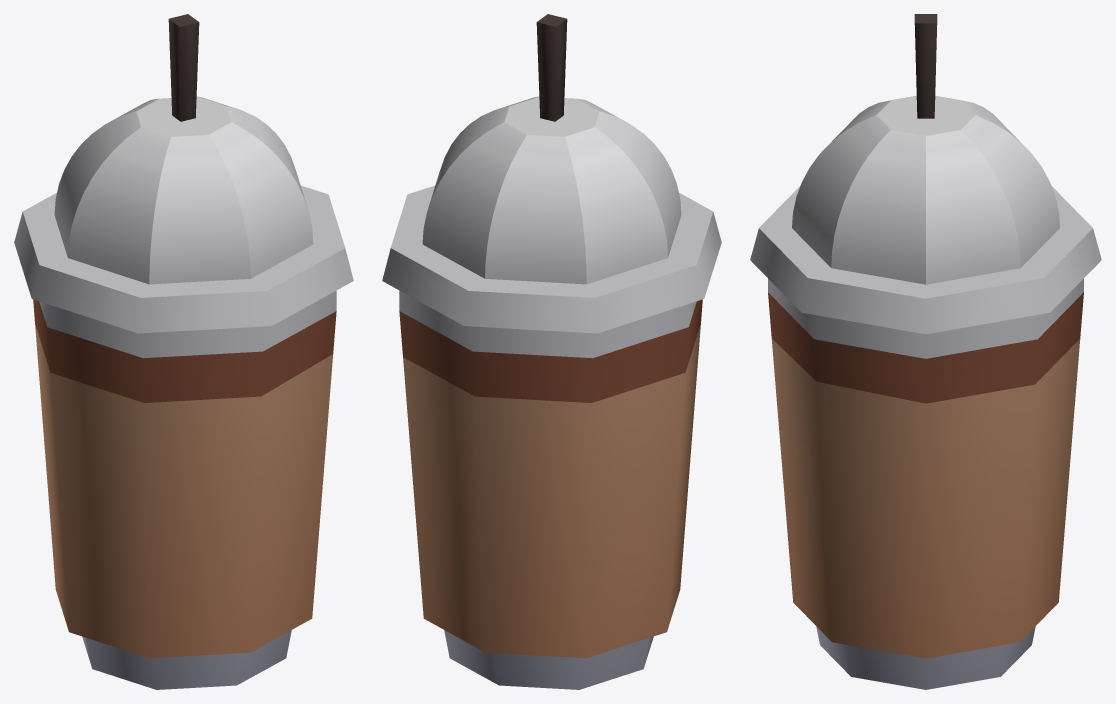
The model's file is frappe.glb.
3 renders of one model, left to right at view 1: azimuth 30°, elevation 25°; view 2: azimuth 150°, elevation 25°; view 3: azimuth 270°, elevation 25°, orthographic.
Parts seen in each view (by area): view 1: frappe; view 2: frappe; view 3: frappe.
Boxes of the visible parts, x1,y1,x2,y2 form: frappe: (14,14,353,689); frappe: (382,14,721,689); frappe: (750,14,1101,689).
Bounding box in the file's own units: 0.2541 × 0.4993 × 0.2541.
